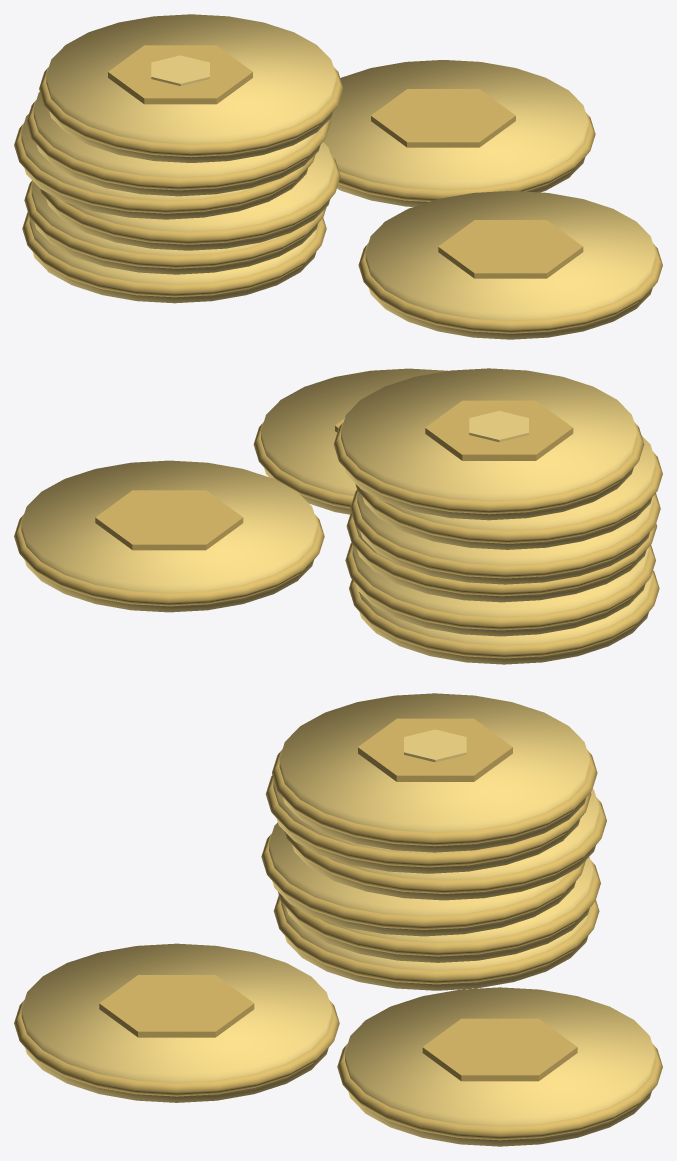
File: RobuxCoins.glb
The picture shows the model from 3 angles, top to bottom: view 1: azimuth 30°, elevation 25°; view 2: azimuth 150°, elevation 25°; view 3: azimuth 270°, elevation 25°; orthographic projection. The views are drawn at different scales.
Visible parts, largest first — view 1: RobuxCoins; view 2: RobuxCoins; view 3: RobuxCoins.
Part boxes in pixels (left/top/right/bottom): RobuxCoins: left=14, top=14, right=662, bottom=339; RobuxCoins: left=14, top=368, right=662, bottom=664; RobuxCoins: left=14, top=693, right=662, bottom=1146.
Size of the model in its own units: 2.71 by 0.7825 by 2.51.
Materials: 1 (1 with a texture image).
